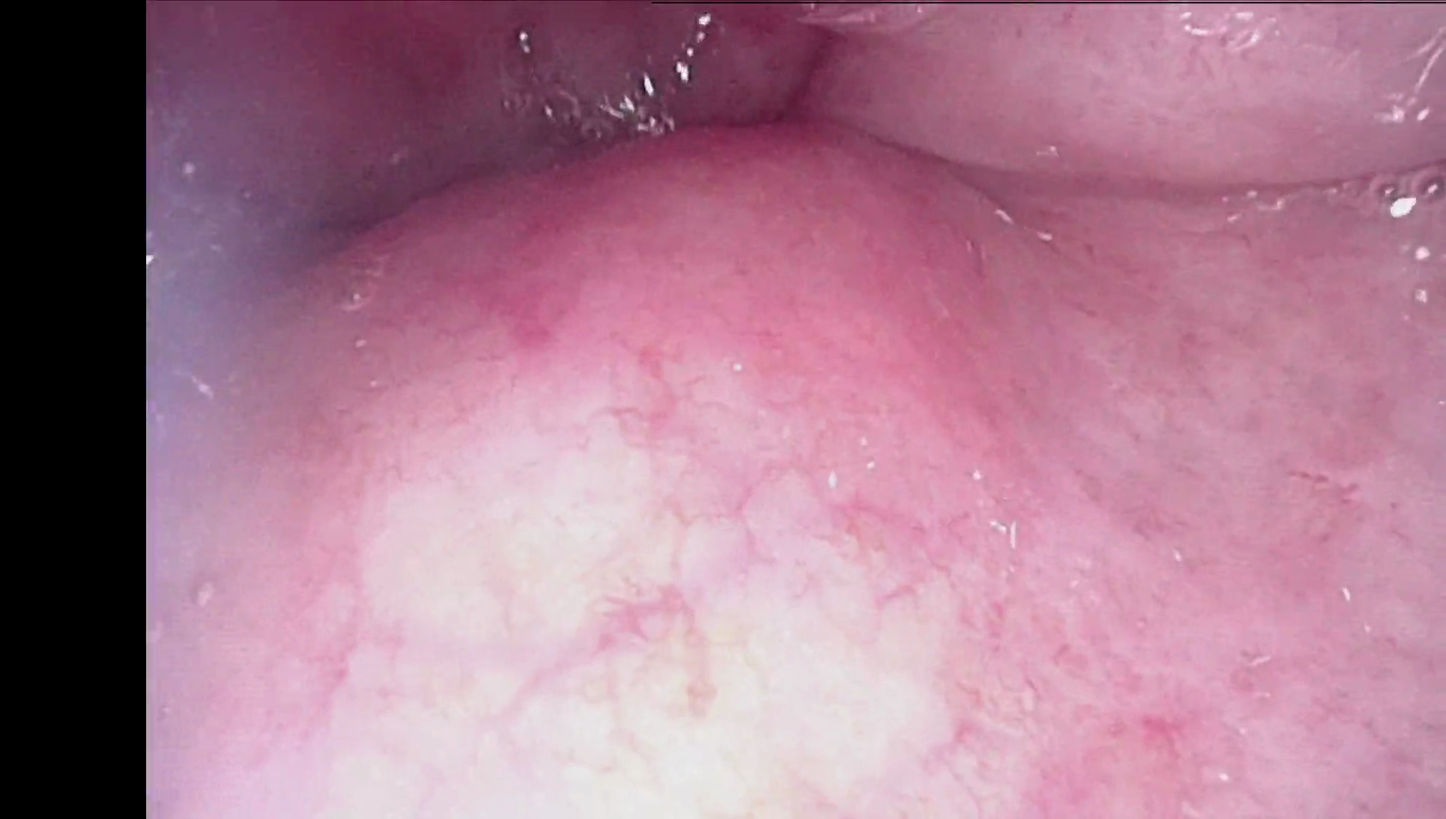close_wall: (271, 308, 1305, 819)
